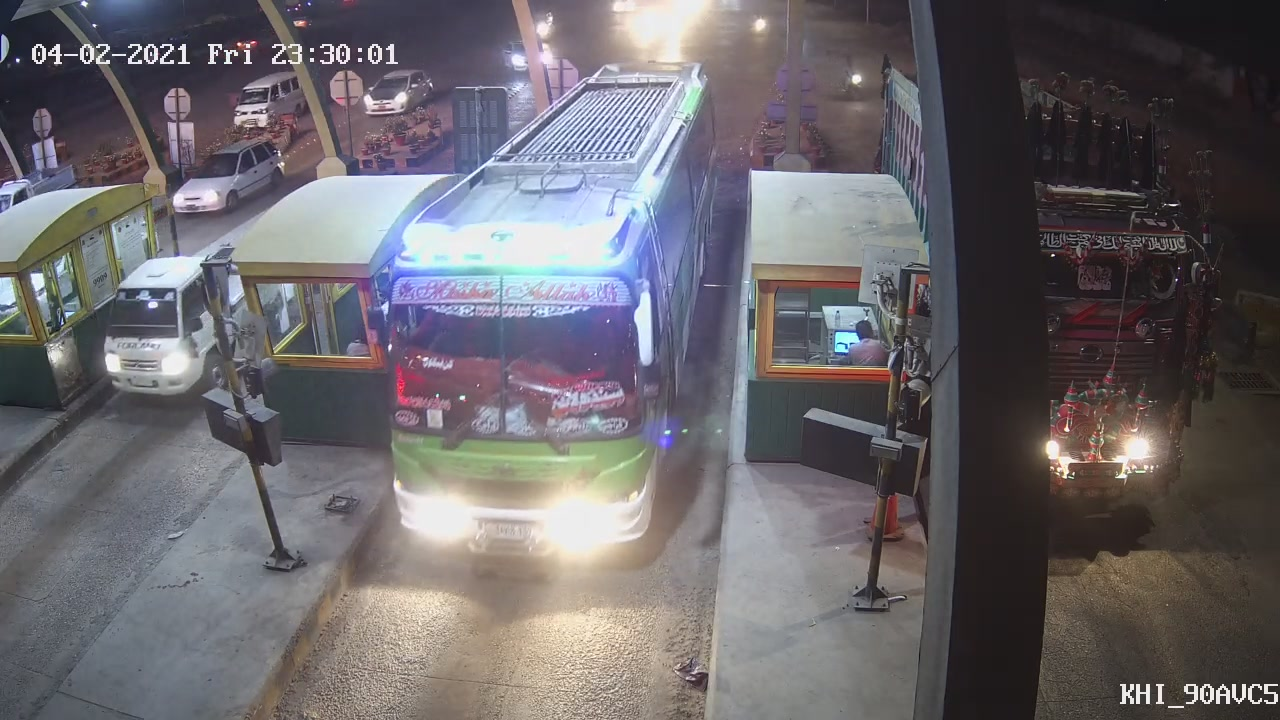F3: (365, 70, 696, 573)
